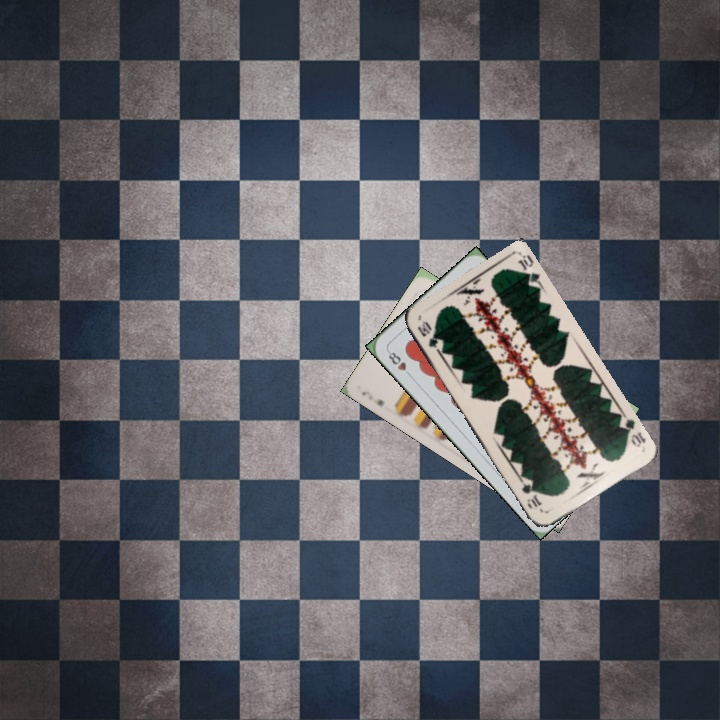E7: (357, 387, 387, 409)
G10: (615, 411, 648, 450), (413, 317, 446, 355)
H8: (384, 346, 415, 380)
